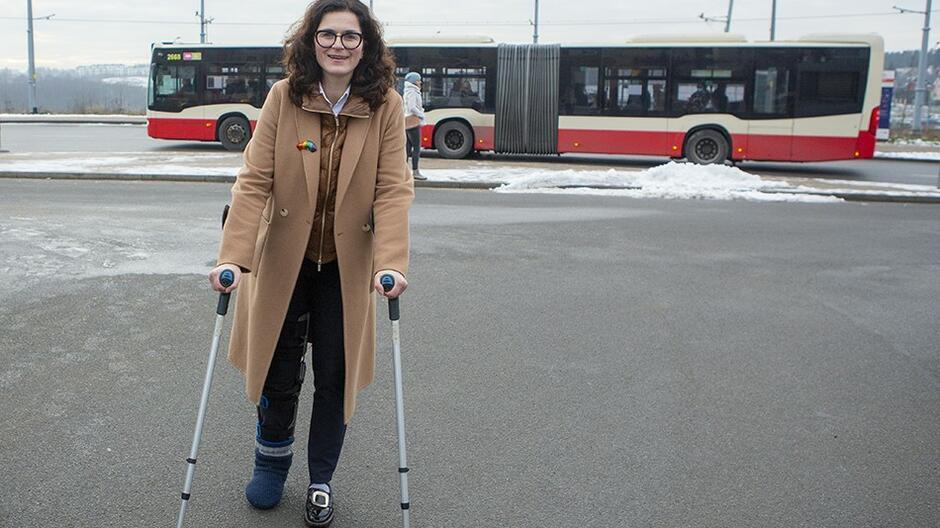crutches: (170, 0, 426, 528)
